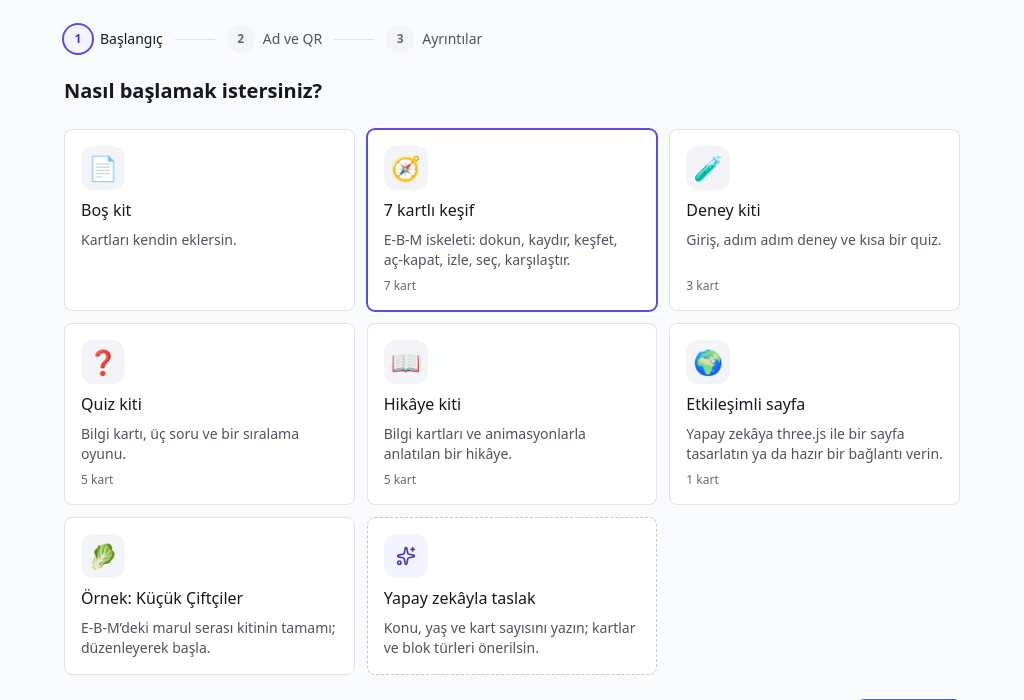
KitCreatePage · AI draft inside the wizard › drafts the kit without the wizard asking for a draft first
The image size is (1024, 700).
(page scrolled)
Click the radio button labelled "Yapay zekâyla taslak" at [512, 596], box top-left (367, 517), bottom-right (657, 675)
(page scrolled)
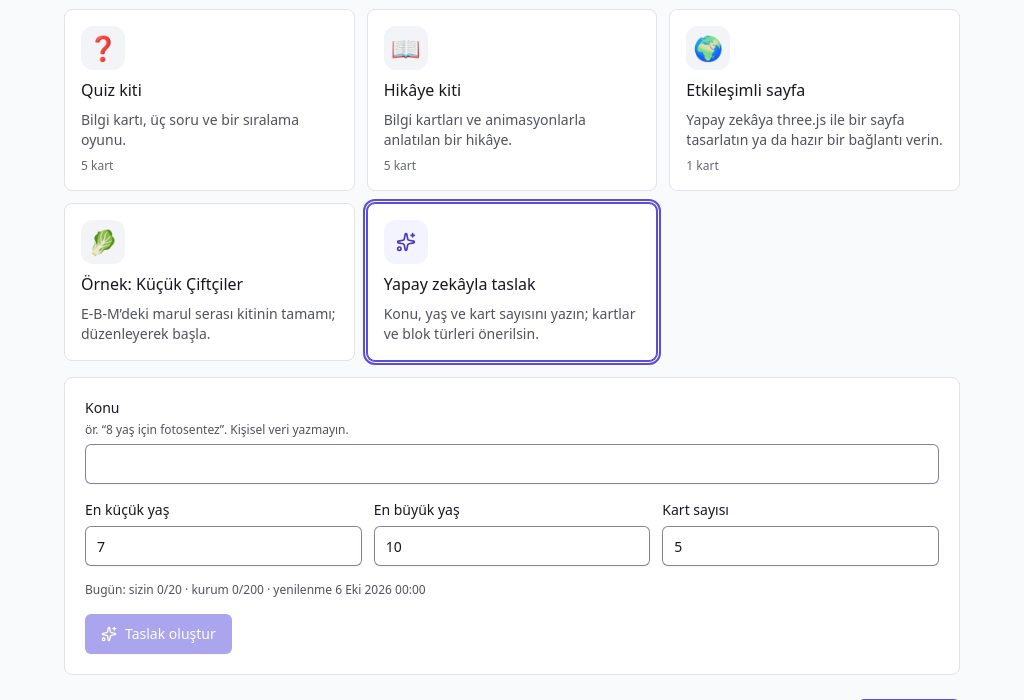
Type "Uzay" into the field labelled "Konu" at [512, 464], box top-left (85, 444), bottom-right (939, 484)
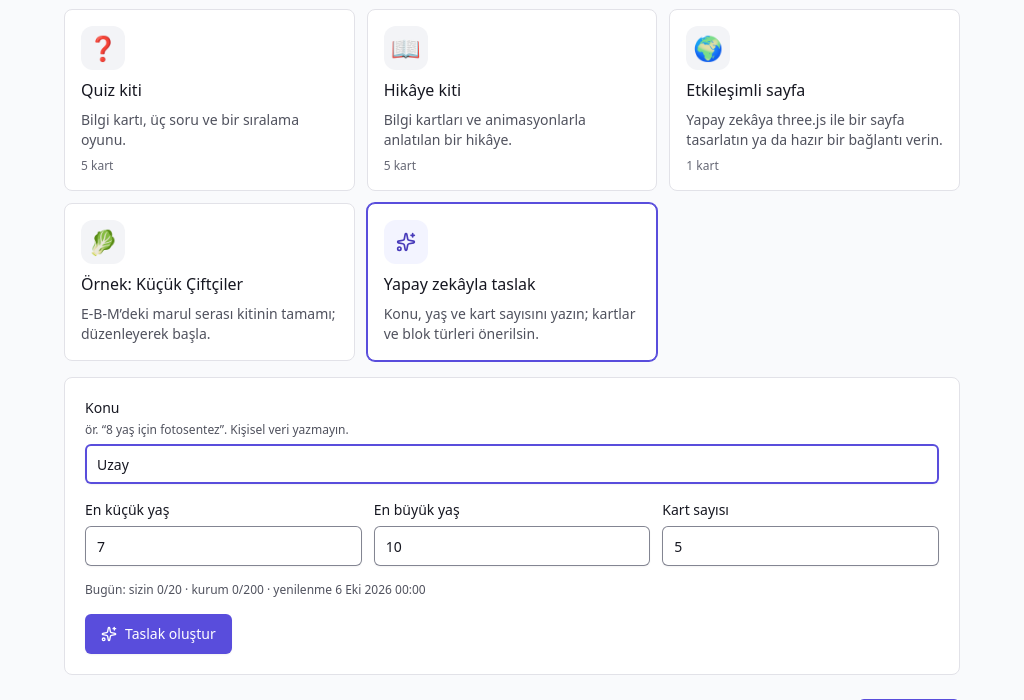
Click the button "Taslak oluştur" at [158, 634], box top-left (85, 614), bottom-right (232, 654)
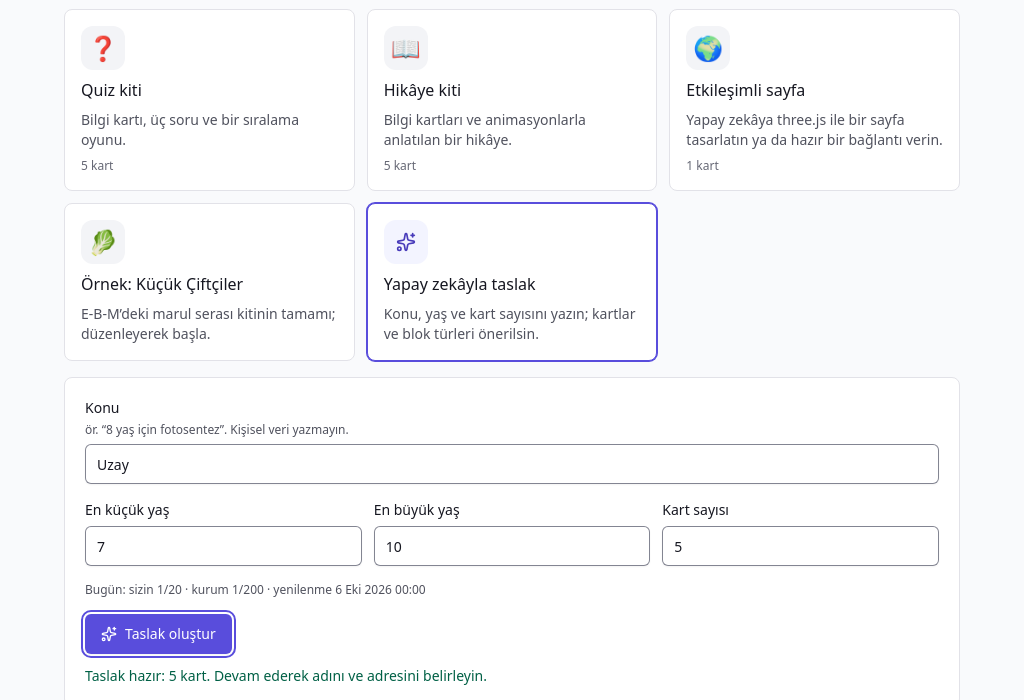
Result: the radio button labelled "Yapay zekâyla taslak" is checked at top-left (367, 203), bottom-right (657, 361)
Result: the text "Taslak hazır: 5 kart" is shown at top-left (85, 666), bottom-right (487, 685)
